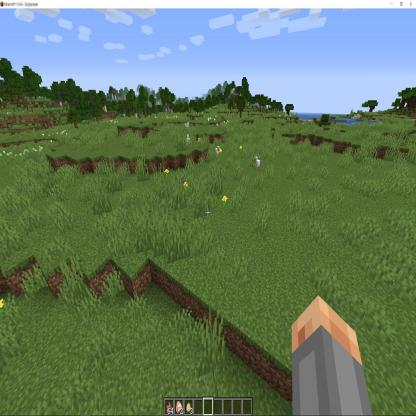minecraft-pigs: (253, 154, 262, 172), (184, 134, 192, 148), (214, 143, 220, 159)
